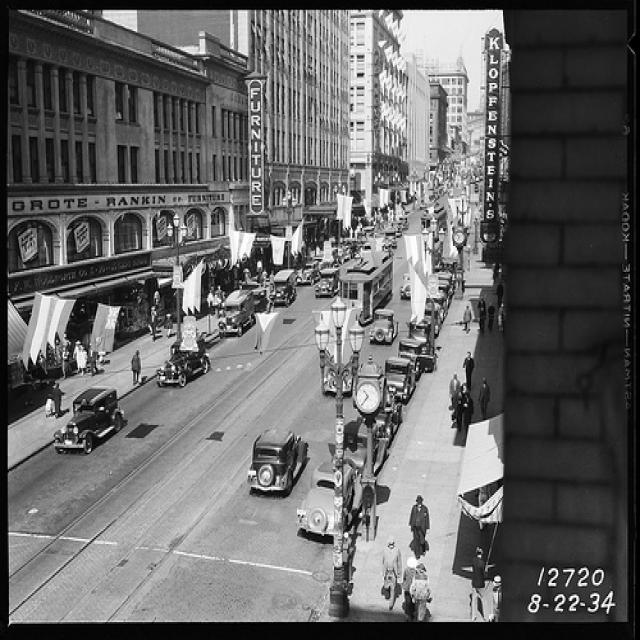Vehicle: (252, 215, 453, 482), (295, 456, 359, 536), (53, 386, 126, 455), (336, 251, 395, 327), (250, 430, 309, 498), (158, 337, 210, 388), (220, 290, 255, 336), (385, 356, 416, 404), (398, 340, 433, 380), (370, 307, 399, 343), (270, 268, 297, 306), (314, 267, 341, 299), (410, 318, 432, 355), (296, 260, 320, 288), (401, 275, 412, 300)
